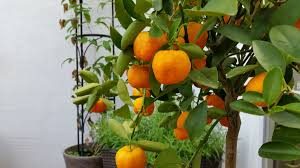orange: (151, 49, 190, 85), (243, 69, 279, 108), (174, 20, 208, 54), (132, 27, 167, 59), (114, 143, 150, 168), (126, 64, 154, 91), (133, 95, 158, 118)
